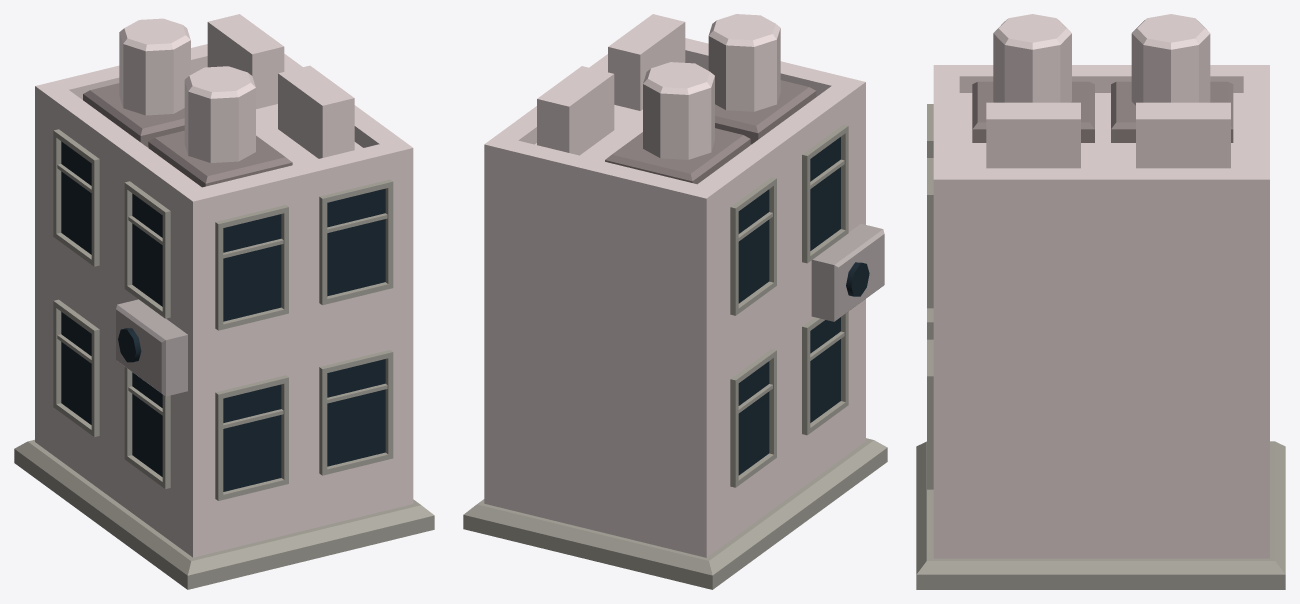
Rendered from Semi_Building01.fbx.
3 renders of one model, left to right at view 1: azimuth 30°, elevation 25°; view 2: azimuth 150°, elevation 25°; view 3: azimuth 270°, elevation 25°, orthographic. The views are drawn at different scales.
Visible parts, largest first — view 1: Semi_building01; view 2: Semi_building01; view 3: Semi_building01.
Part boxes in pixels (bbox=[...]): Semi_building01: bbox=[14, 14, 434, 589]; Semi_building01: bbox=[463, 14, 887, 589]; Semi_building01: bbox=[916, 14, 1285, 589].
Bounding box in the file's own units: 54.5 × 62.04 × 88.73.
